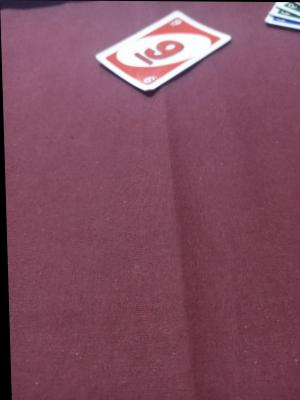num_9: (130, 37, 184, 67)
